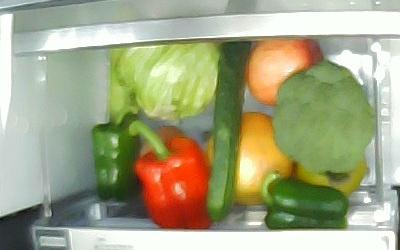apple: (243, 37, 323, 104)
broccoli: (271, 60, 375, 173)
cucumber: (205, 43, 250, 221), (107, 49, 137, 123)
grapefruit: (202, 111, 291, 205)
lettuce: (113, 41, 219, 124)
paprika: (129, 119, 220, 229), (263, 177, 349, 230), (92, 113, 142, 202)
persimmon: (295, 159, 365, 196)
